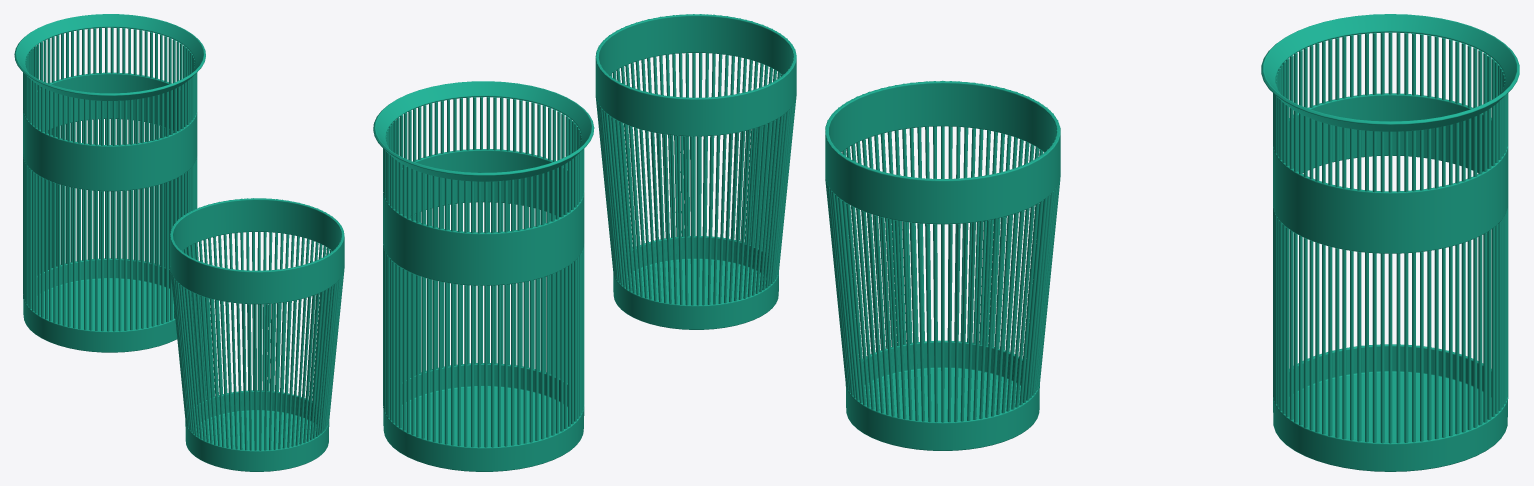
File: Trash_Can.obj
3 renders of one model, left to right at view 1: azimuth 30°, elevation 25°; view 2: azimuth 150°, elevation 25°; view 3: azimuth 270°, elevation 25°, orthographic. The views are drawn at different scales.
Visible parts, largest first — view 1: bin_2, bin_1; view 2: bin_2, bin_1; view 3: bin_2, bin_1.
Boxes of the visible parts, left/top/right/bottom form: bin_2: left=14, top=14, right=205, bottom=352; bin_1: left=170, top=198, right=344, bottom=471; bin_2: left=373, top=81, right=594, bottom=471; bin_1: left=595, top=14, right=796, bottom=329; bin_2: left=1261, top=14, right=1519, bottom=471; bin_1: left=825, top=80, right=1060, bottom=450.
Size of the model in its own units: 49.81 by 70.55 by 125.
